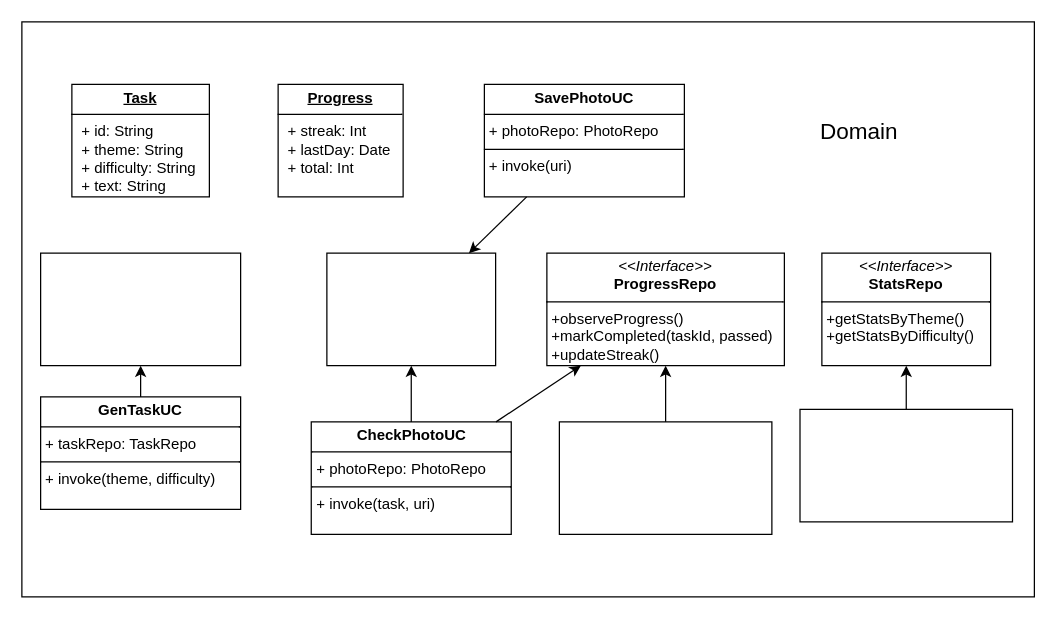
This 1056x619 diagram has some shape labels left out. The centre of each missing label's shape, as x and y in pixels:
<<Interface>> PhotoRepo + checkPhoto(task, uri) + saveToGallery(uri): the point at 411,309
<<Interface>> TaskRepo + genTask(theme, difficulty) + getCache(): the point at 140,309
GetProgressUC -progressRepo: ProgressRepo + invoke(): the point at 665,477
GetStatsUC -statsRepo: StatsRepo + invoke(): the point at 905,465
